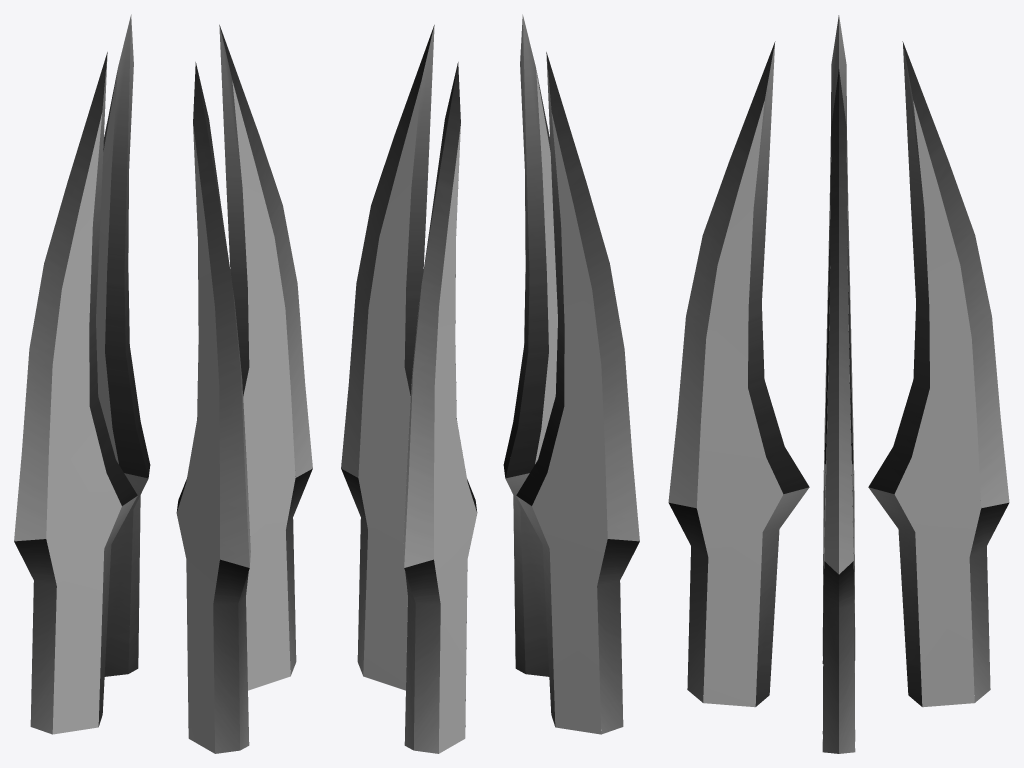
Rendered from nelleff_nife01.FBX.
3 renders of one model, left to right at view 1: azimuth 30°, elevation 25°; view 2: azimuth 150°, elevation 25°; view 3: azimuth 270°, elevation 25°, orthographic.
Parts seen in each view (by area): view 1: nelleff_nife01; view 2: nelleff_nife01; view 3: nelleff_nife01.
Boxes of the visible parts, box(x1,y1,x2,y2) form: nelleff_nife01: box(14, 14, 312, 753); nelleff_nife01: box(341, 14, 639, 753); nelleff_nife01: box(668, 15, 1009, 753).
Size of the model in its own units: 170 by 361 by 170.
